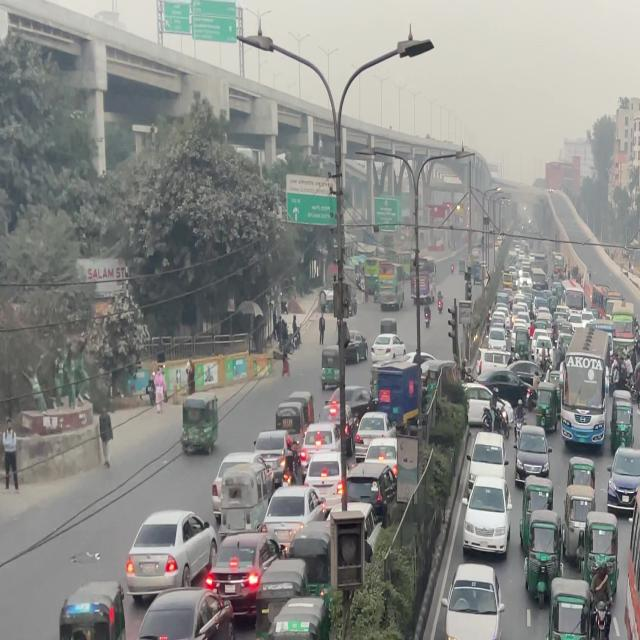bus: (466, 441, 512, 560), (559, 353, 613, 441), (375, 366, 423, 422), (623, 483, 640, 640)
car: (126, 512, 216, 599), (202, 532, 287, 620), (122, 589, 227, 640), (442, 564, 502, 640), (608, 445, 640, 507)
rickshaw: (58, 587, 128, 640), (260, 591, 334, 640), (541, 631, 588, 640)
